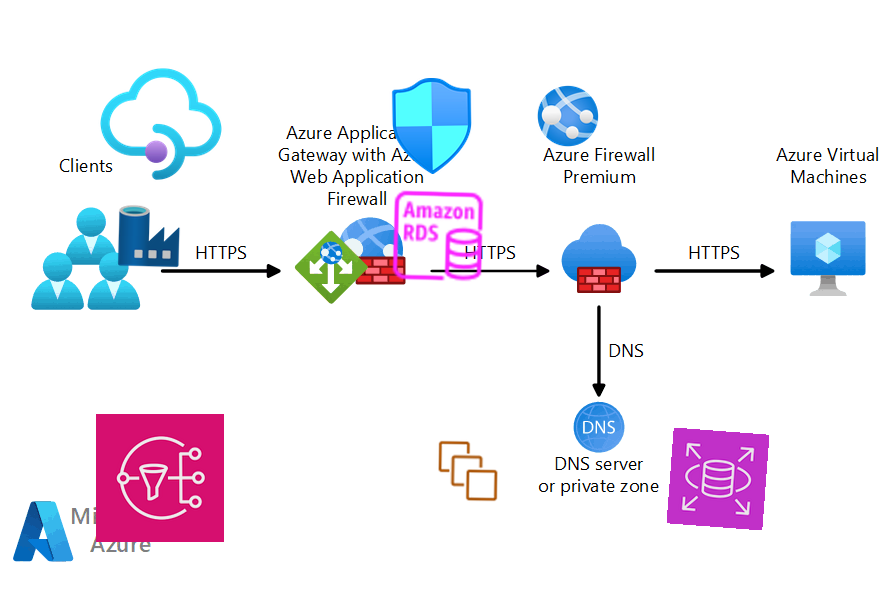aws_amazon_rds: (666, 427, 770, 531)
aws_amazon_simple_notification_service: (95, 413, 225, 543)
aws_aurora_amazon_rds_instance: (388, 186, 488, 286)
aws_ec2_instances: (435, 438, 501, 504)
azure_api_management_services: (96, 59, 226, 189)
azure_app_services: (535, 83, 601, 149)
azure_data_factories: (116, 203, 182, 269)
azure_network_security_groups: (383, 77, 481, 175)
